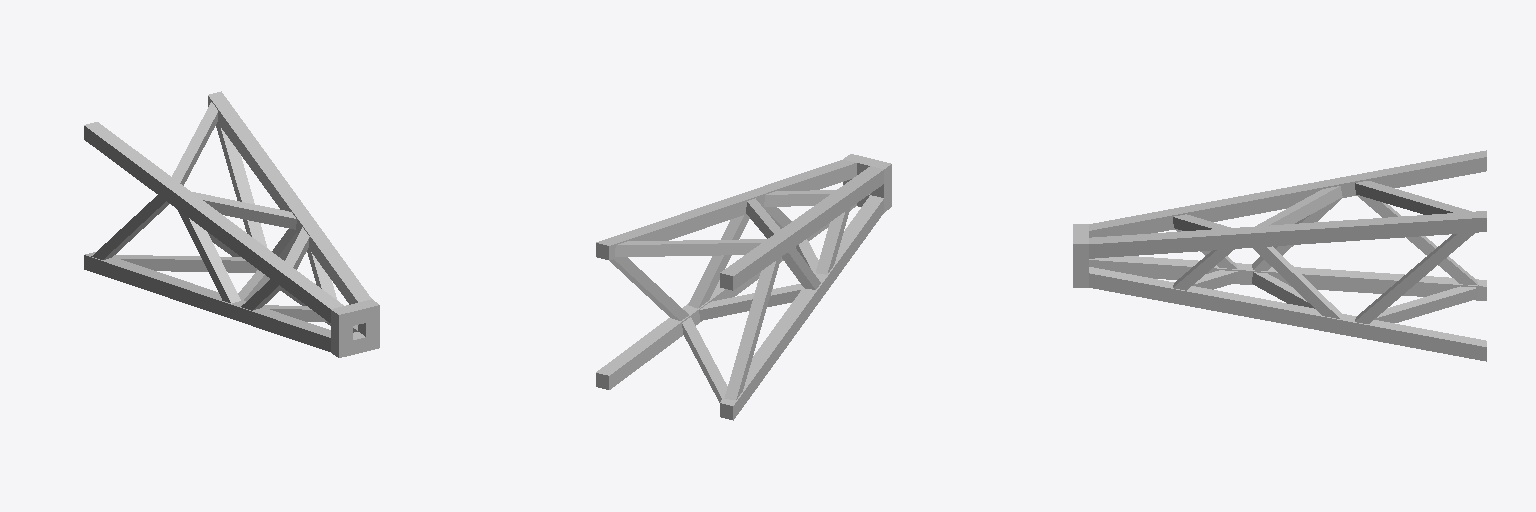
The model's file is tower.obj.
The picture shows the model from 3 angles: view 1: azimuth 30°, elevation 25°; view 2: azimuth 150°, elevation 25°; view 3: azimuth 270°, elevation 25°; orthographic projection.
Bounding box in the file's own units: 2 × 2 × 5.2.